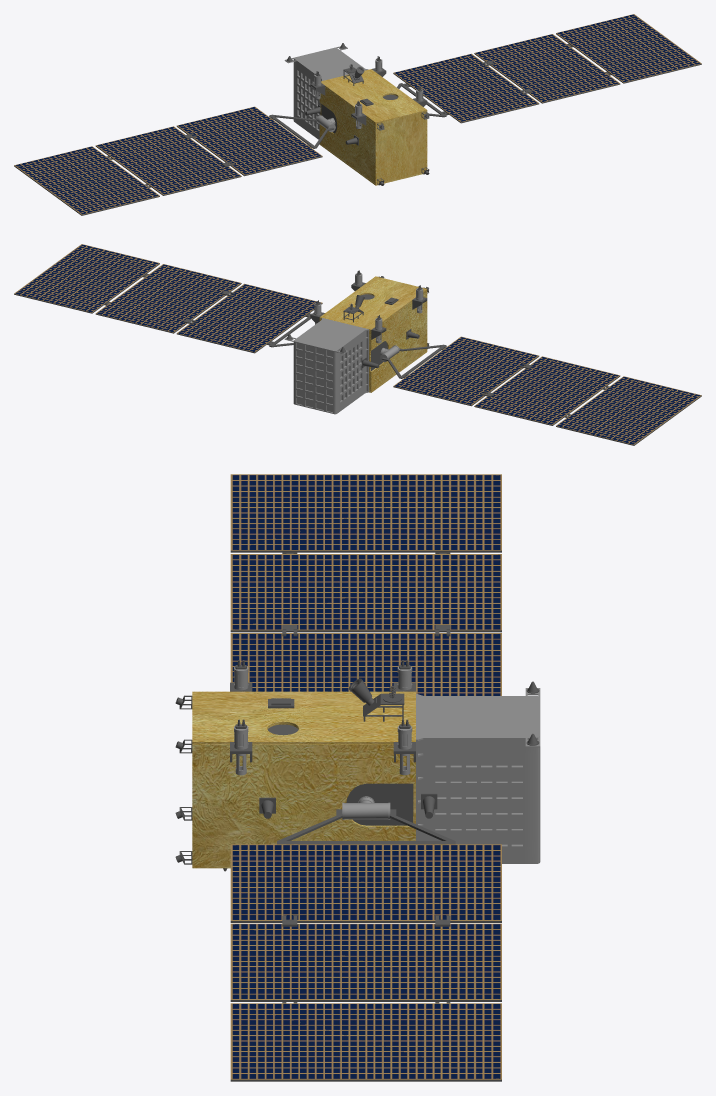
Rendered from sate.gltf.
3 views of the same model, one above another, from view 1: azimuth 30°, elevation 25°; view 2: azimuth 150°, elevation 25°; view 3: azimuth 270°, elevation 25° (orthographic). The views are drawn at different scales.
Visible parts, largest first — view 1: pCube10_2, polySurface23, pCube12, pCube10, polySurface23_2, pCube12_2, polySurface6, polySurface1, polySurface2, polySurface16, polySurface65, pCube14_2 (+1 smaller); view 2: polySurface16, pCube10_2, polySurface23, pCube12, pCube10, pCube12_2, polySurface23_2, polySurface1, polySurface2, polySurface65, pCube14_2, polySurface64; view 3: pCube10, polySurface23_2, polySurface23, pCube10_2, pCube12, polySurface17, polySurface16, pCube12_2, polySurface2, polySurface18, polySurface64, pCube14 (+2 smaller).
Part boxes in pixels (x1=…): pCube10_2: x1=95, y1=126, x2=241, y2=195; polySurface23: x1=556, y1=14, x2=701, y2=83; pCube12: x1=393, y1=53, x2=539, y2=123; pCube10: x1=474, y1=34, x2=620, y2=103; polySurface23_2: x1=14, y1=146, x2=159, y2=215; pCube12_2: x1=176, y1=106, x2=322, y2=176; polySurface6: x1=376, y1=112, x2=426, y2=183; polySurface1: x1=319, y1=87, x2=376, y2=184; polySurface2: x1=321, y1=69, x2=427, y2=123; polySurface16: x1=293, y1=47, x2=368, y2=139; polySurface65: x1=310, y1=71, x2=366, y2=128; pCube14_2: x1=269, y1=114, x2=334, y2=148; polySurface16: x1=293, y1=318, x2=368, y2=414; pCube10_2: x1=474, y1=356, x2=620, y2=425; polySurface23: x1=14, y1=244, x2=159, y2=313; pCube12: x1=176, y1=283, x2=322, y2=353; pCube10: x1=95, y1=264, x2=241, y2=333; pCube12_2: x1=393, y1=336, x2=539, y2=406; polySurface23_2: x1=556, y1=376, x2=701, y2=445; polySurface1: x1=370, y1=290, x2=427, y2=391; polySurface2: x1=319, y1=276, x2=427, y2=330; polySurface65: x1=371, y1=285, x2=427, y2=343; pCube14_2: x1=381, y1=344, x2=446, y2=378; polySurface64: x1=310, y1=270, x2=365, y2=324; pCube10: x1=230, y1=919, x2=501, y2=1003; polySurface23_2: x1=230, y1=474, x2=501, y2=553; polySurface23: x1=230, y1=1003, x2=501, y2=1081; pCube10_2: x1=230, y1=554, x2=501, y2=632; pCube12: x1=230, y1=844, x2=501, y2=922; polySurface17: x1=192, y1=744, x2=415, y2=865; polySurface16: x1=416, y1=694, x2=540, y2=863; pCube12_2: x1=230, y1=629, x2=501, y2=695; polySurface2: x1=192, y1=691, x2=415, y2=744; polySurface18: x1=268, y1=724, x2=413, y2=825; polySurface64: x1=230, y1=719, x2=415, y2=775; pCube14: x1=277, y1=809, x2=455, y2=844.
Size of the model in its own units: 317 by 48.8 by 80.67.
1 material, 1 textured.
